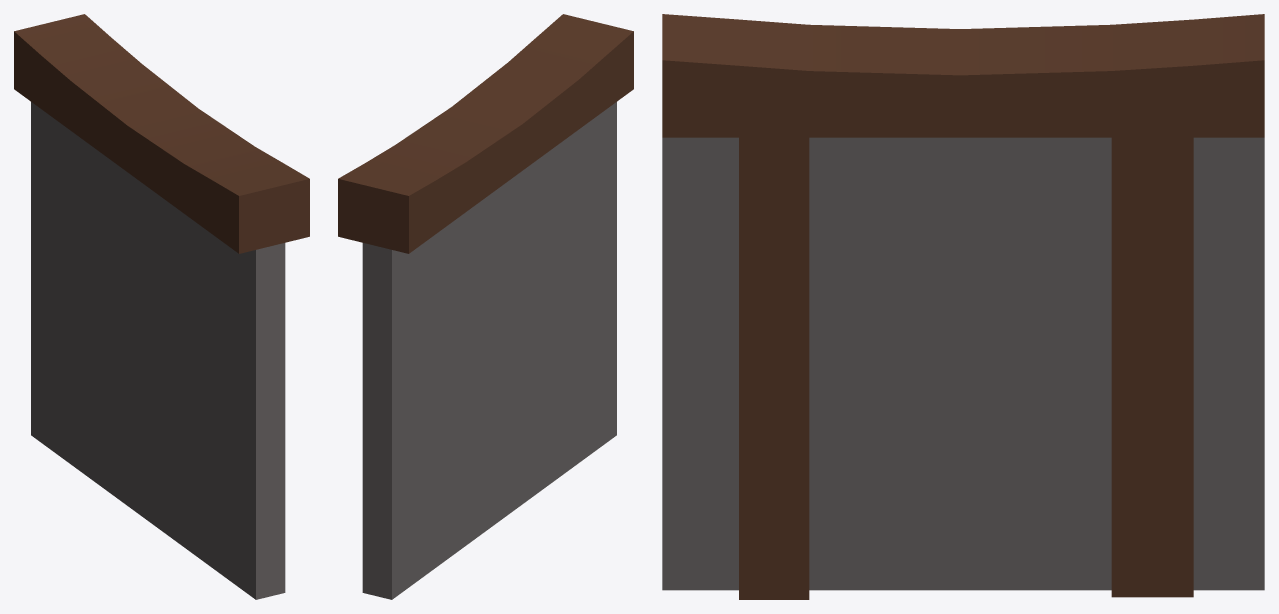
Rendered from muur_1.fbx.
3 renders of one model, left to right at view 1: azimuth 30°, elevation 25°; view 2: azimuth 150°, elevation 25°; view 3: azimuth 270°, elevation 25°, orthographic. The views are drawn at different scales.
Parts seen in each view (by area): view 1: Muur_1; view 2: Muur_1; view 3: Muur_1.
Part boxes in pixels (box(x1,y1,x2,y2)): Muur_1: box(14, 14, 309, 599); Muur_1: box(338, 14, 633, 599); Muur_1: box(662, 14, 1264, 599).
Size of the model in its own units: 0.3633 by 2 by 2.
